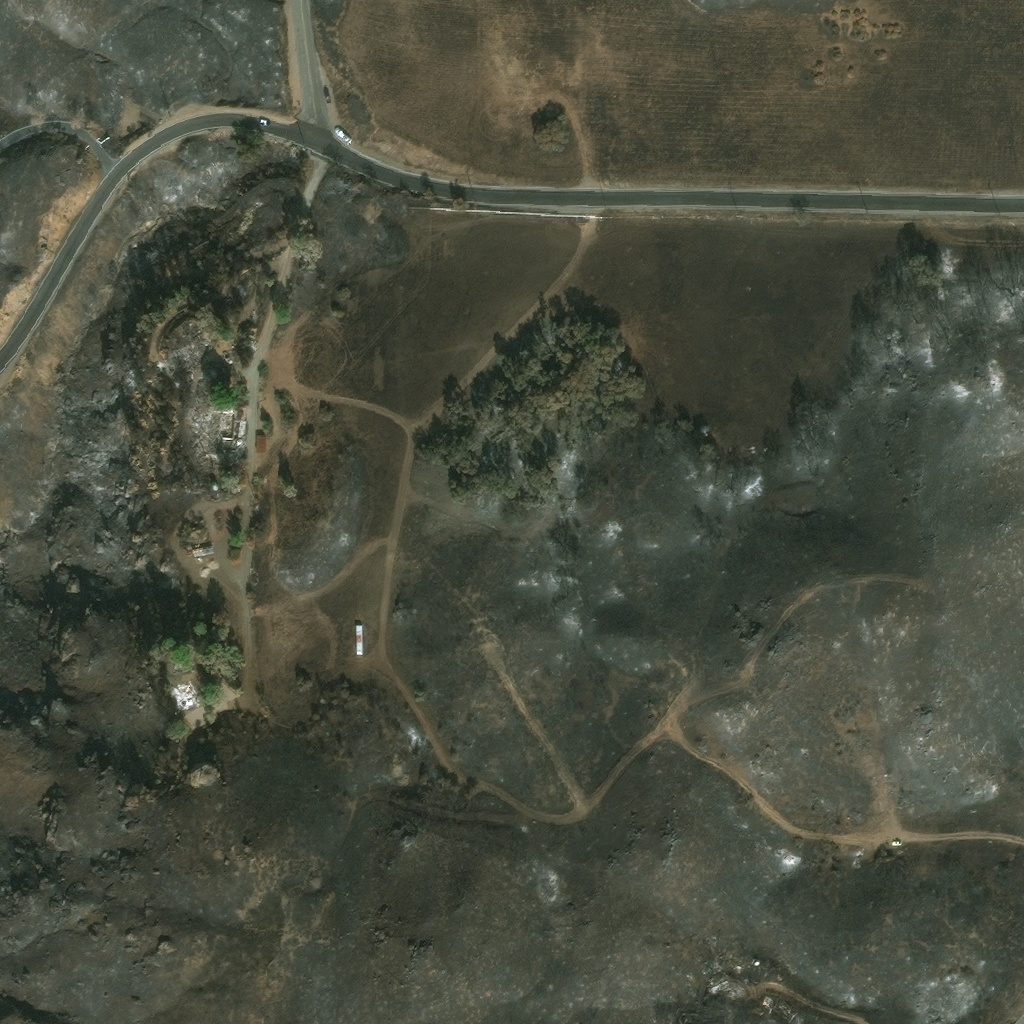0 no-damage: (257, 433, 266, 451)
1 minor-damage: (353, 624, 364, 655), (190, 545, 215, 557)
2 major-damage: (211, 480, 219, 490), (213, 491, 221, 498)
3 destroyed: (206, 405, 243, 452), (168, 679, 200, 709), (773, 998, 794, 1019), (708, 977, 731, 995), (171, 347, 189, 362), (729, 962, 744, 978), (247, 347, 256, 355)
